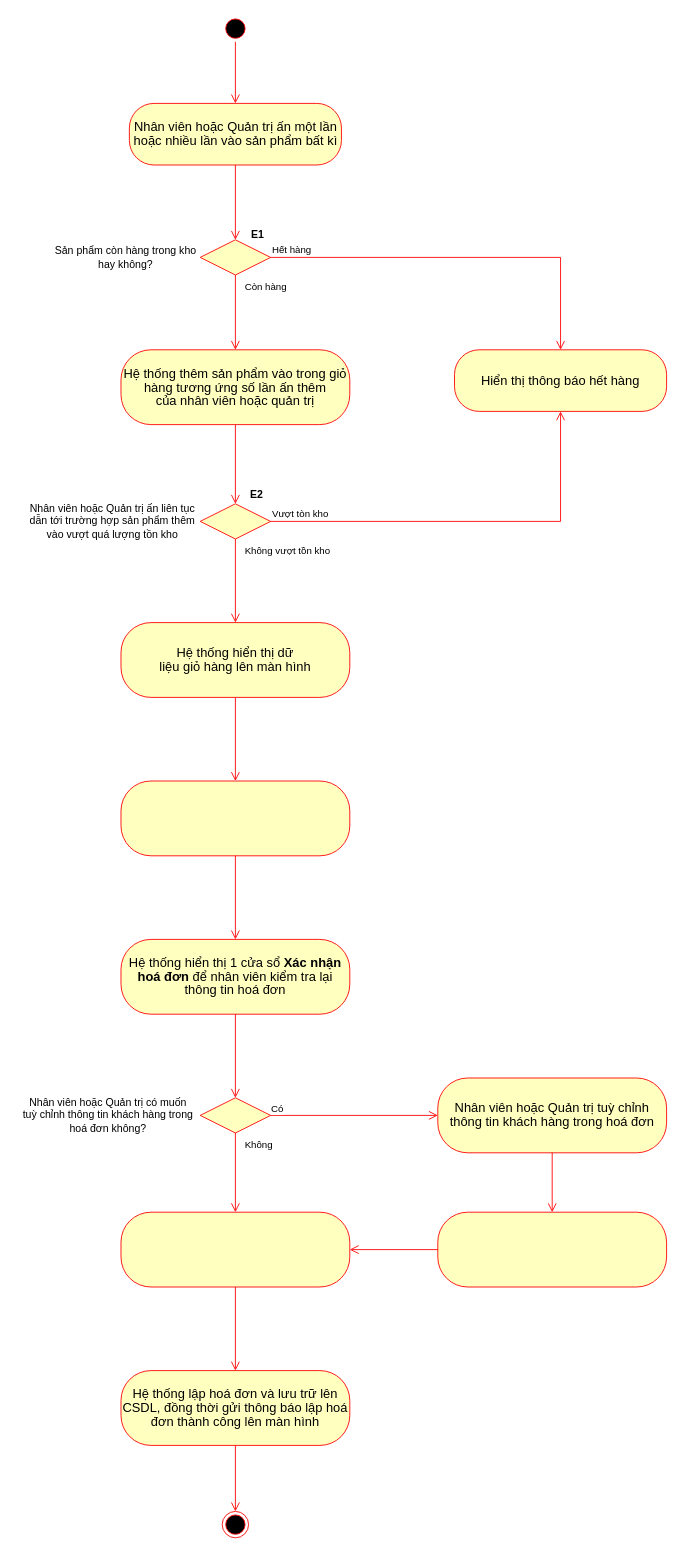
Some shapes in this 682 by 1553 pixel diagram are drawn without their labels. Here are the shapes that lost their labels. From the top down, the centre of each, then its label:
At point 235,818: "Nhân viên ấn vào nút Lập hoá đơn để tiến hành lập hoá đơn bán hàng".
At point 235,1249: "Nhân viên hoặc Quản trị ấn vào nút Xác nhận để xác nhận yêu cầu hoá đơn.".
At point 552,1249: "Hệ thống cập nhật cửa sổ Xác nhận hoá đơn".
